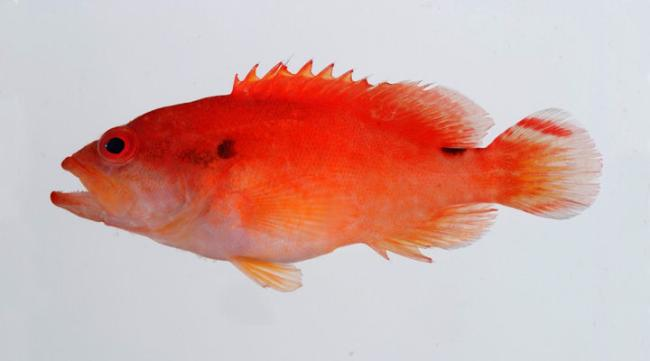fish: (49, 56, 602, 292)
